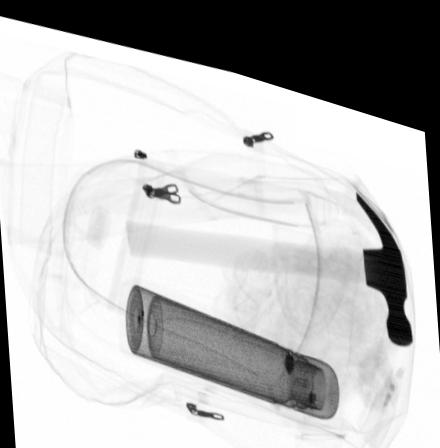Hammer: (124, 168, 413, 320)
